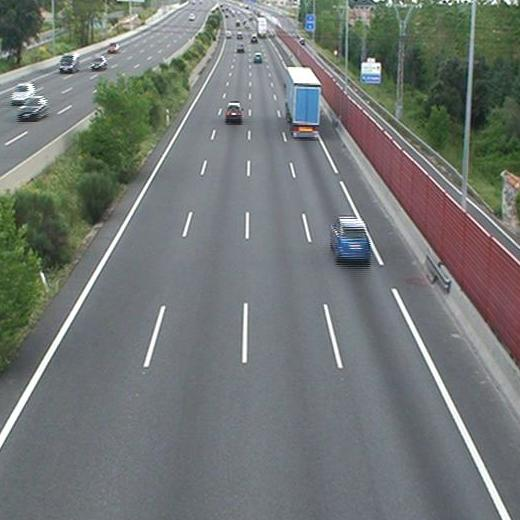car: (331, 218, 371, 260), (225, 103, 242, 120), (236, 42, 245, 52), (253, 53, 261, 62)
truck: (286, 67, 319, 137)
